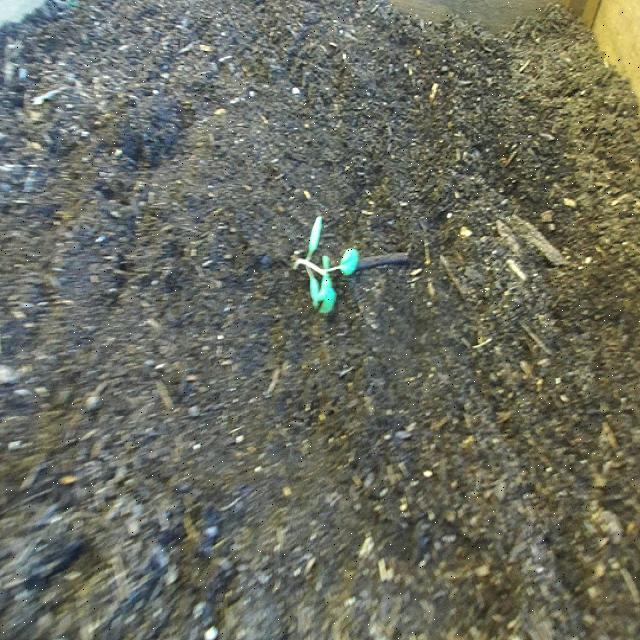Unhealthy: (285, 201, 361, 328)
